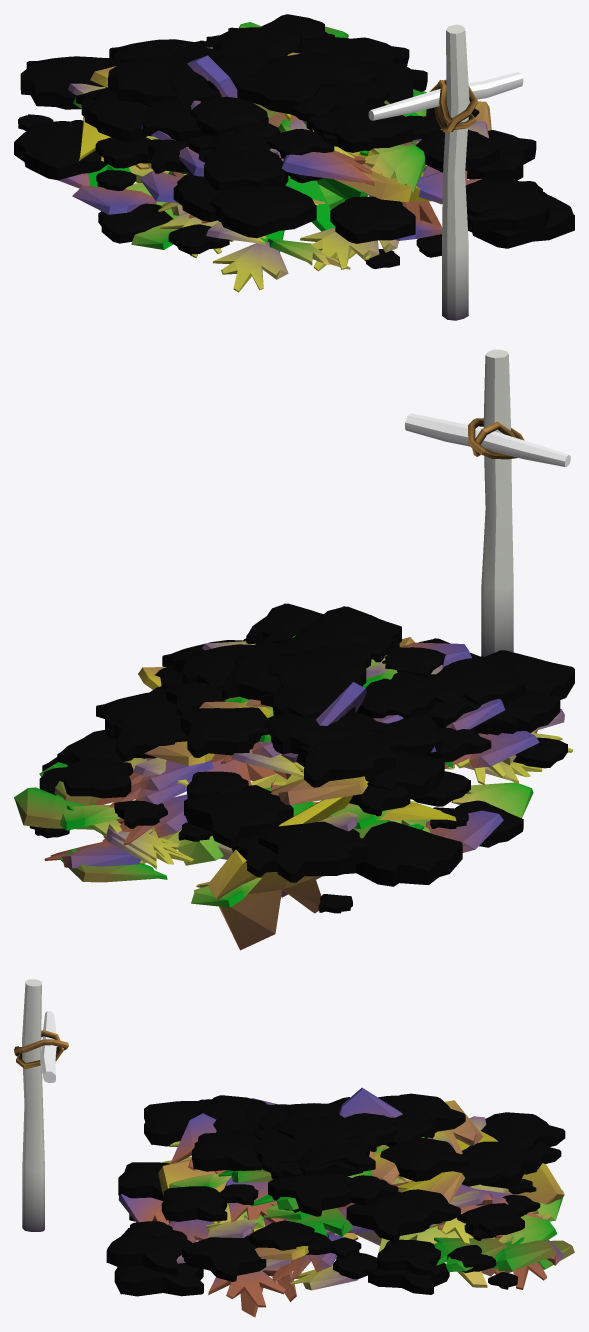
The model's file is Mogilka.fbx.
3 renders of one model, top to bottom at view 1: azimuth 30°, elevation 25°; view 2: azimuth 150°, elevation 25°; view 3: azimuth 270°, elevation 25°, orthographic. The views are drawn at different scales.
Parts seen in each view (by area): view 1: Mogilka; view 2: Mogilka; view 3: Mogilka.
Boxes of the visible parts, bbox=[...] form: Mogilka: bbox=[14, 14, 574, 320]; Mogilka: bbox=[14, 349, 574, 950]; Mogilka: bbox=[14, 979, 574, 1317].
Size of the model in its own units: 171 by 150 by 249.
